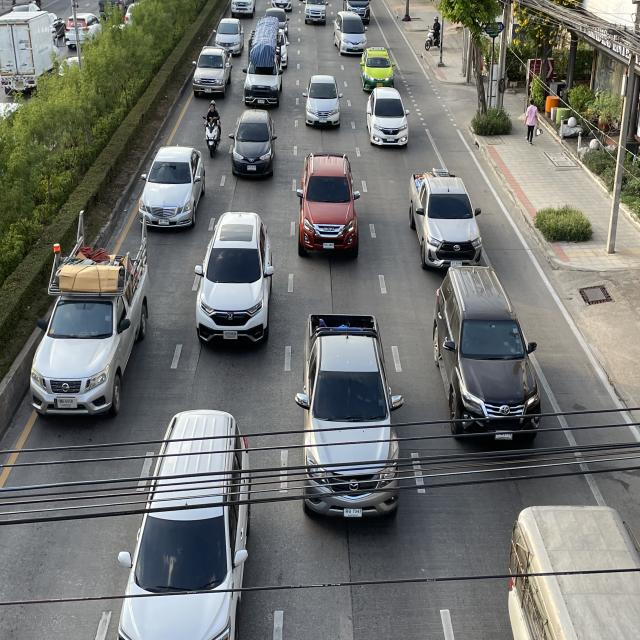bike: (200, 91, 225, 159)
car: (114, 404, 258, 640), (294, 311, 408, 524)
truck: (24, 211, 152, 422), (242, 12, 289, 106)
